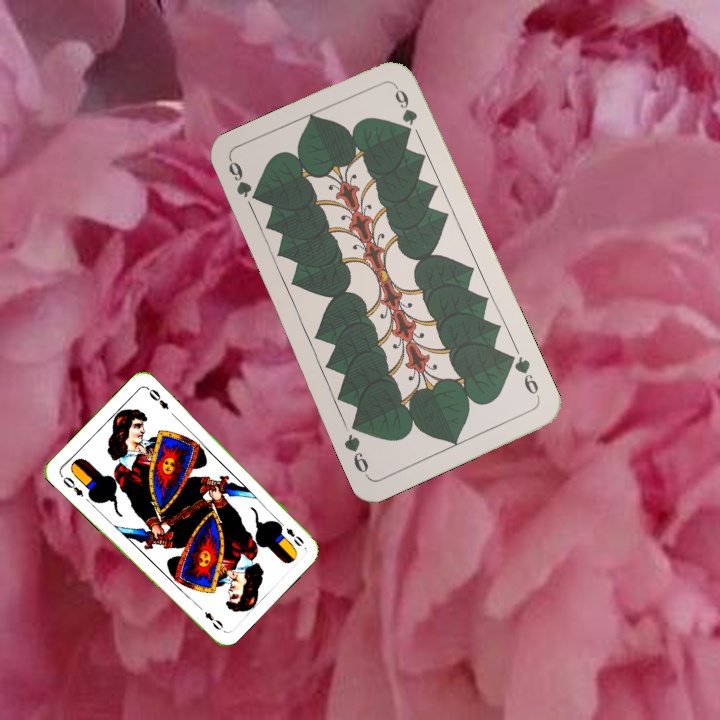EO: (274, 517, 306, 549), (56, 471, 86, 499)
G9: (503, 350, 543, 401), (224, 157, 253, 200)
